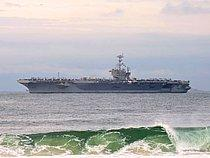MIL_Ship: (16, 53, 190, 93)
